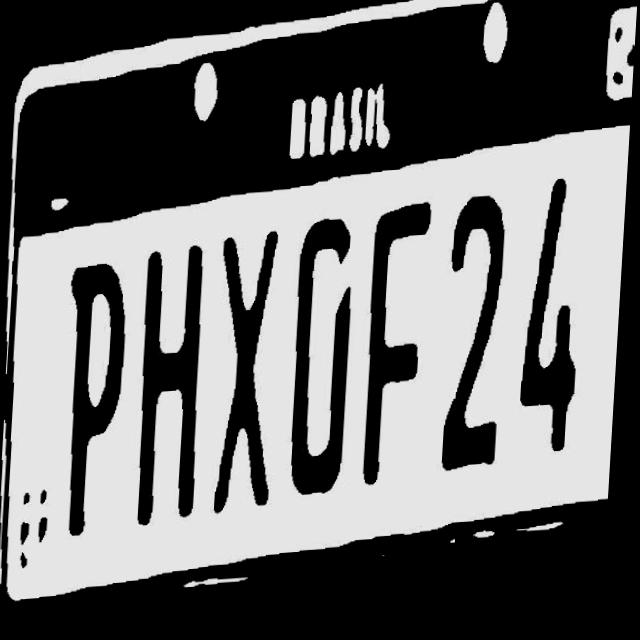0: (287, 218, 371, 499)
2: (441, 190, 525, 475)
4: (516, 184, 603, 468)
f: (366, 193, 437, 491)
h: (124, 241, 223, 541)
p: (43, 261, 128, 550)
x: (208, 220, 299, 516)
